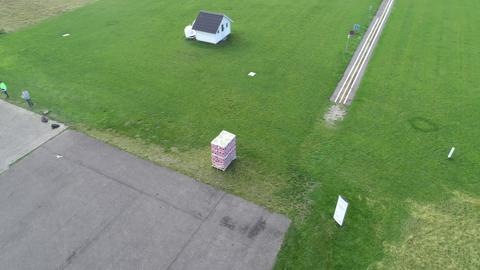RockwoolPallet: (209, 129, 237, 173)
